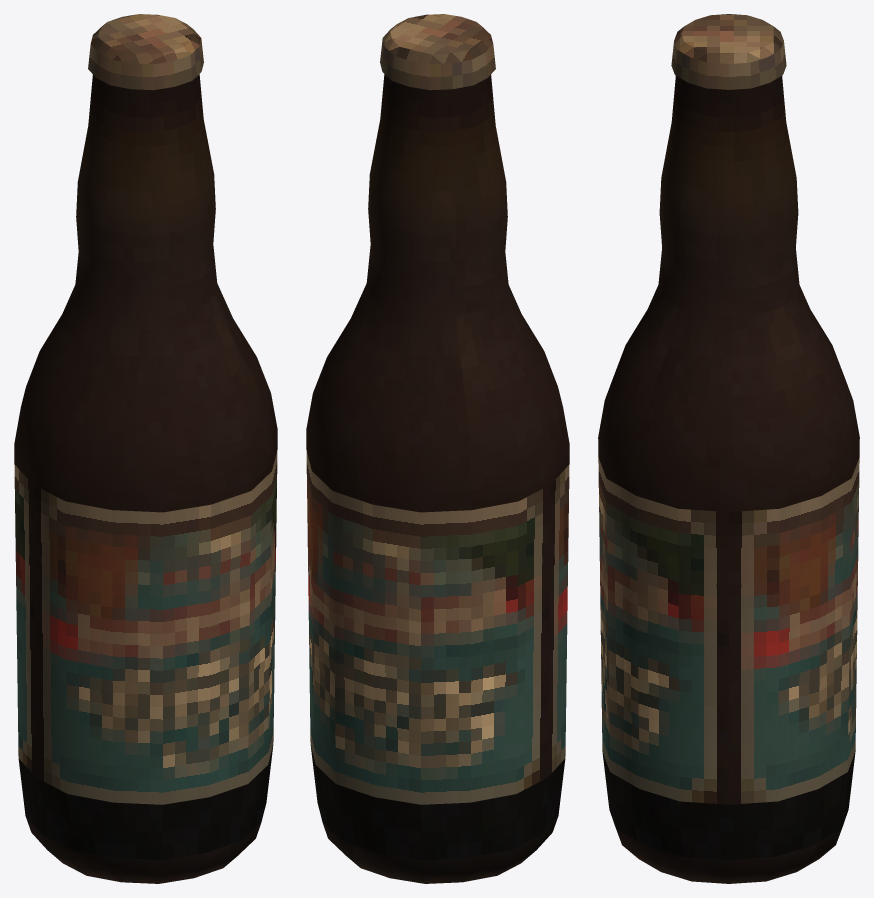
The model's file is glass_bottle_2.glb.
3 views of the same model, side by side, from view 1: azimuth 30°, elevation 25°; view 2: azimuth 150°, elevation 25°; view 3: azimuth 270°, elevation 25° (orthographic).
Visible parts, largest first — view 1: glass_bottle_2; view 2: glass_bottle_2; view 3: glass_bottle_2.
Boxes of the visible parts, x1,y1,x2,y2 form: glass_bottle_2: (14, 14, 277, 883); glass_bottle_2: (306, 14, 569, 883); glass_bottle_2: (598, 14, 859, 883).
Bounding box in the file's own units: 0.1152 × 0.3931 × 0.1152.
1 material, 1 textured.
